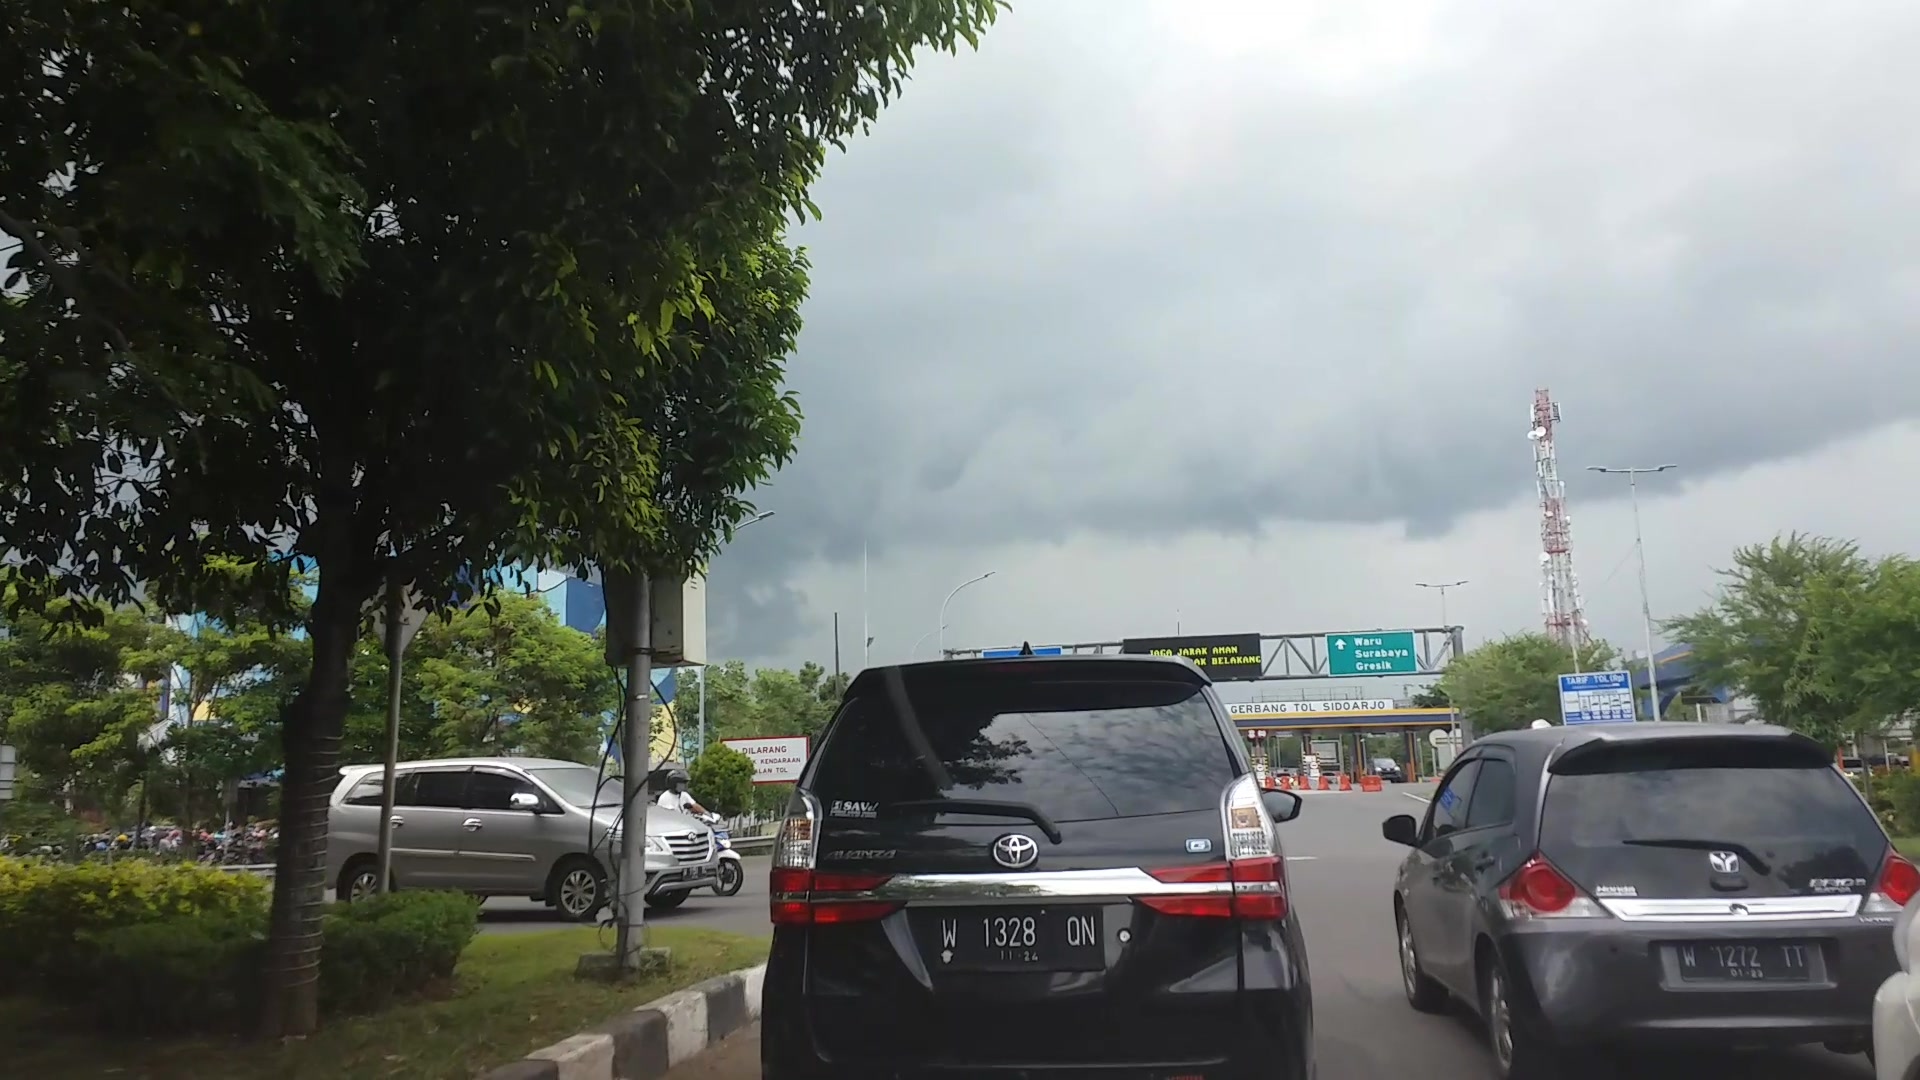plate_positive: (934, 905, 1105, 972), (1677, 942, 1808, 982)
